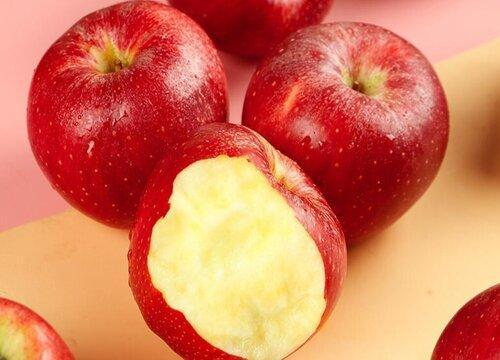apple: (125, 123, 349, 360), (23, 1, 238, 230), (239, 23, 450, 249), (174, 1, 333, 60)
